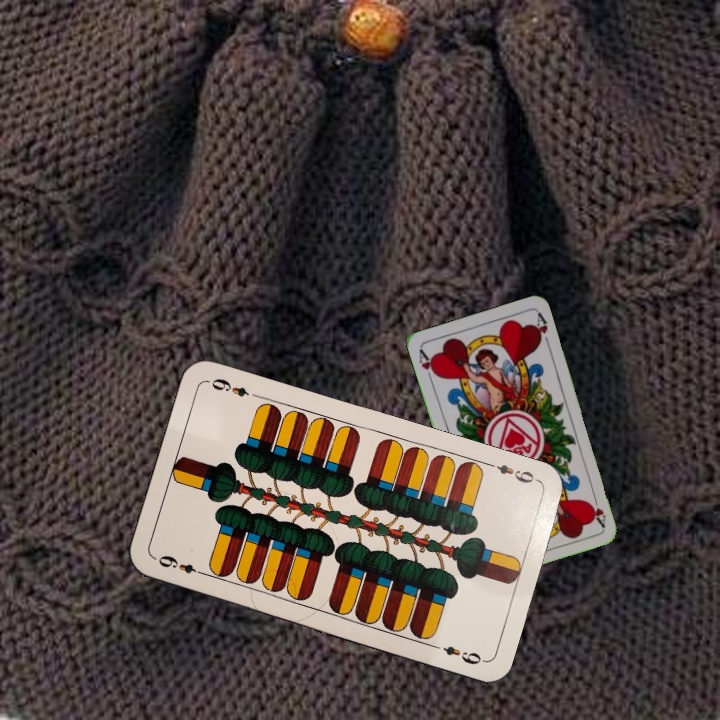E9: (154, 551, 209, 579), (484, 459, 541, 486)
HA: (415, 345, 440, 385), (585, 489, 608, 529)
